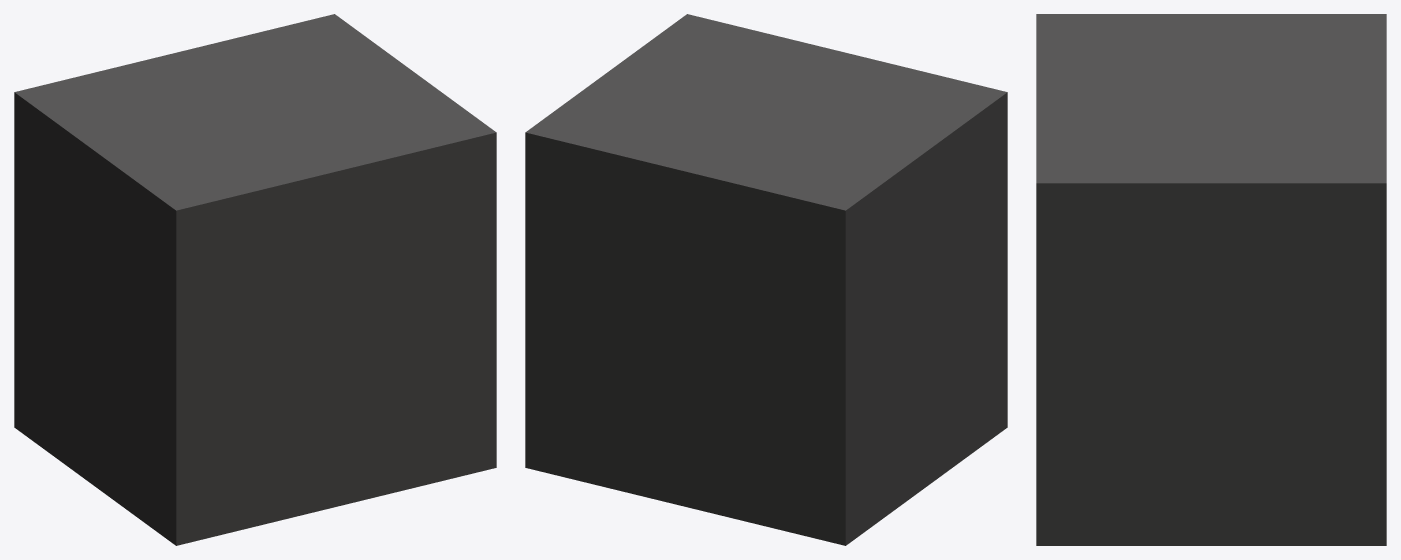
Rendered from COSMIC_F_Perimeter_025U_Add.fbx.
3 renders of one model, left to right at view 1: azimuth 30°, elevation 25°; view 2: azimuth 150°, elevation 25°; view 3: azimuth 270°, elevation 25°, orthographic. The views are drawn at different scales.
Parts seen in each view (by area): view 1: COSMIC_F_Perimeter_025U_Add; view 2: COSMIC_F_Perimeter_025U_Add; view 3: COSMIC_F_Perimeter_025U_Add.
Boxes of the visible parts, <box> form: COSMIC_F_Perimeter_025U_Add: <box>14,14,496,545</box>; COSMIC_F_Perimeter_025U_Add: <box>525,14,1007,545</box>; COSMIC_F_Perimeter_025U_Add: <box>1036,14,1386,545</box>.
Bounding box in the file's own units: 0.25 × 0.25 × 0.2188.
